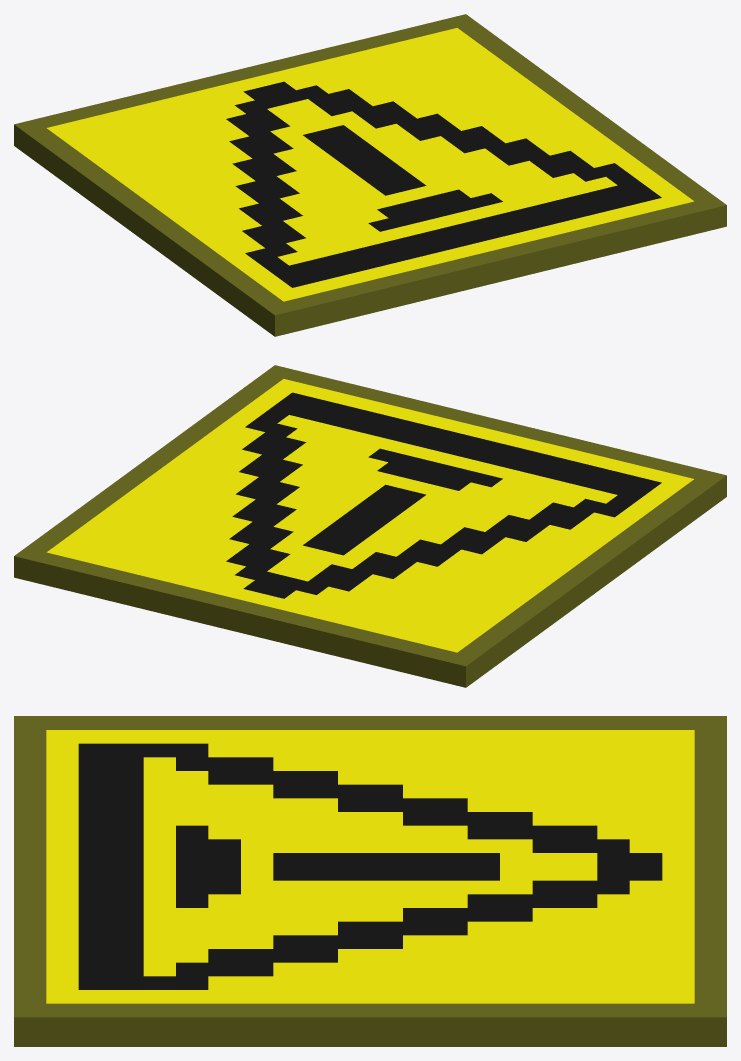
File: placaperigro.obj
3 views of the same model, one above another, from view 1: azimuth 30°, elevation 25°; view 2: azimuth 150°, elevation 25°; view 3: azimuth 270°, elevation 25° (orthographic). The views are drawn at different scales.
Bounding box in the file's own units: 2.2 × 0.1 × 2.2.
Materials: 1 (1 with a texture image).
